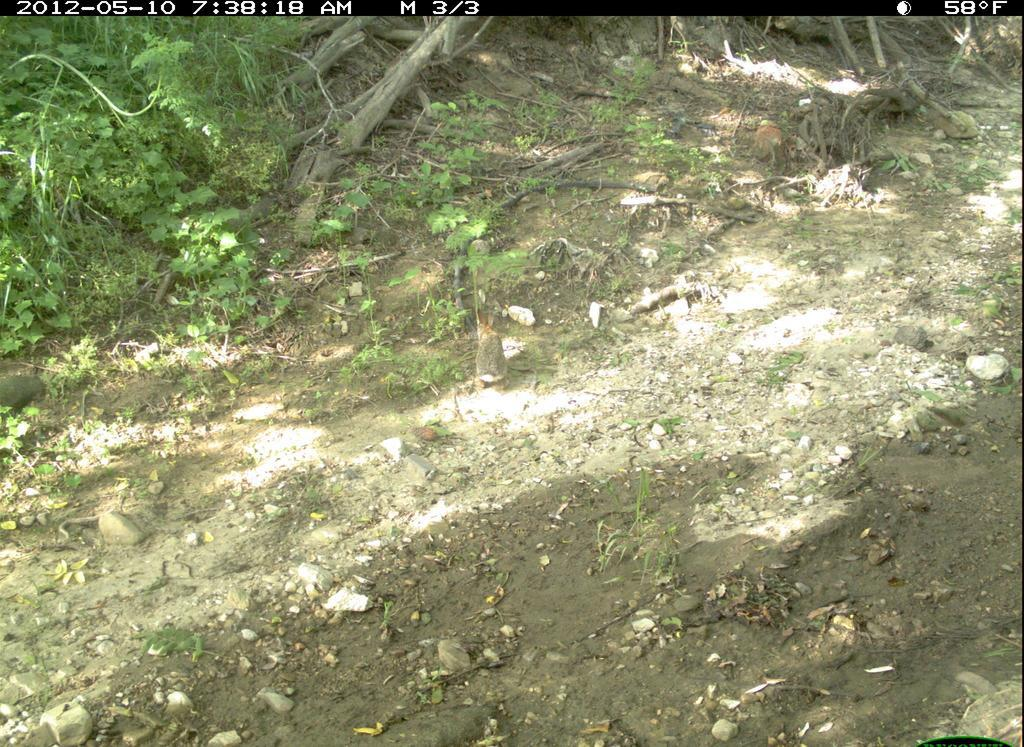rabbit: (468, 308, 520, 397)
